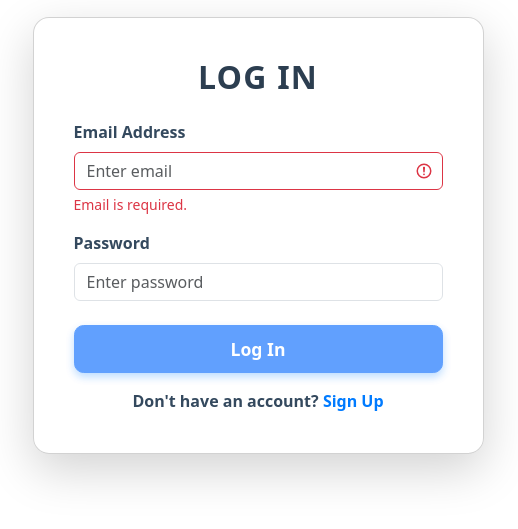
Test: LogIn Component › shows validation errors on blur
Expected: the text "Email is required." is shown, 74,195 -> 187,214
Type "bademail" into the field labelled "Email Address" at (258, 171), box 74,152 -> 442,190
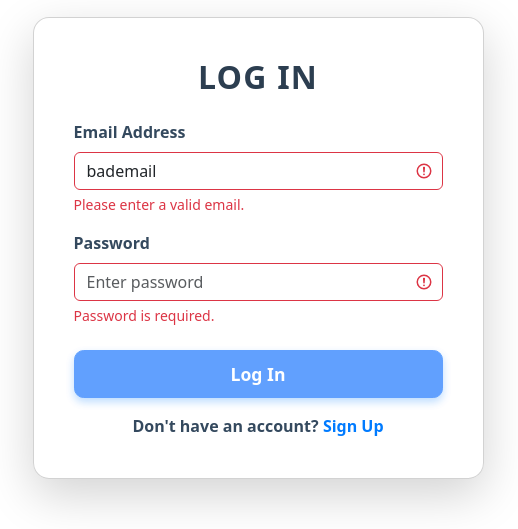
Now the text "Please enter a valid email." is shown, box 74,195 -> 244,214
Now the text "Password is required." is shown, box 74,306 -> 214,325
